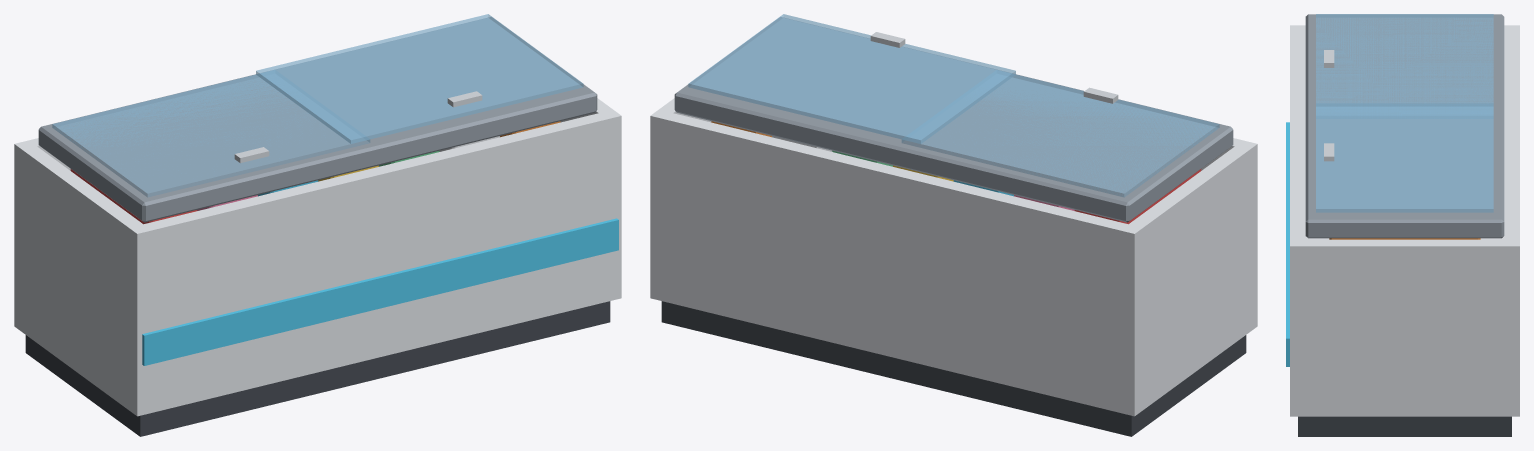
File: freezer.glb
3 renders of one model, left to right at view 1: azimuth 30°, elevation 25°; view 2: azimuth 150°, elevation 25°; view 3: azimuth 270°, elevation 25°, orthographic. The views are drawn at different scales.
Parts seen in each view (by area): view 1: freezer; view 2: freezer; view 3: freezer.
Part boxes in pixels (bbox=[...]): freezer: bbox=[14, 14, 621, 436]; freezer: bbox=[650, 14, 1257, 436]; freezer: bbox=[1286, 14, 1519, 436].
Bounding box in the file's own units: 2 × 0.965 × 0.895.
